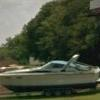Boat: (2, 45, 99, 99)
